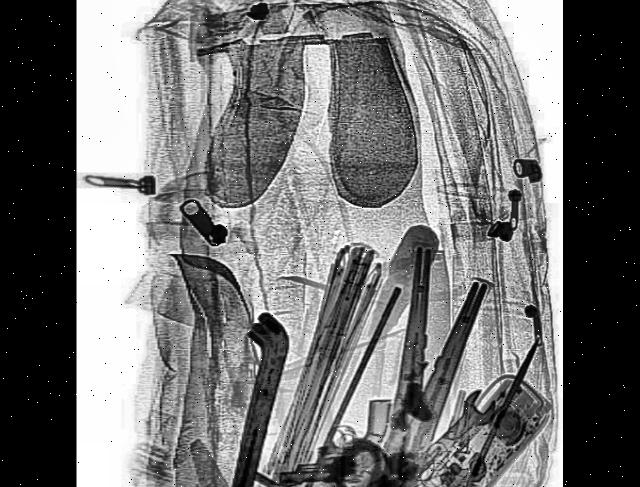Gun: (277, 396, 386, 487)
Wrench: (336, 377, 502, 487)
